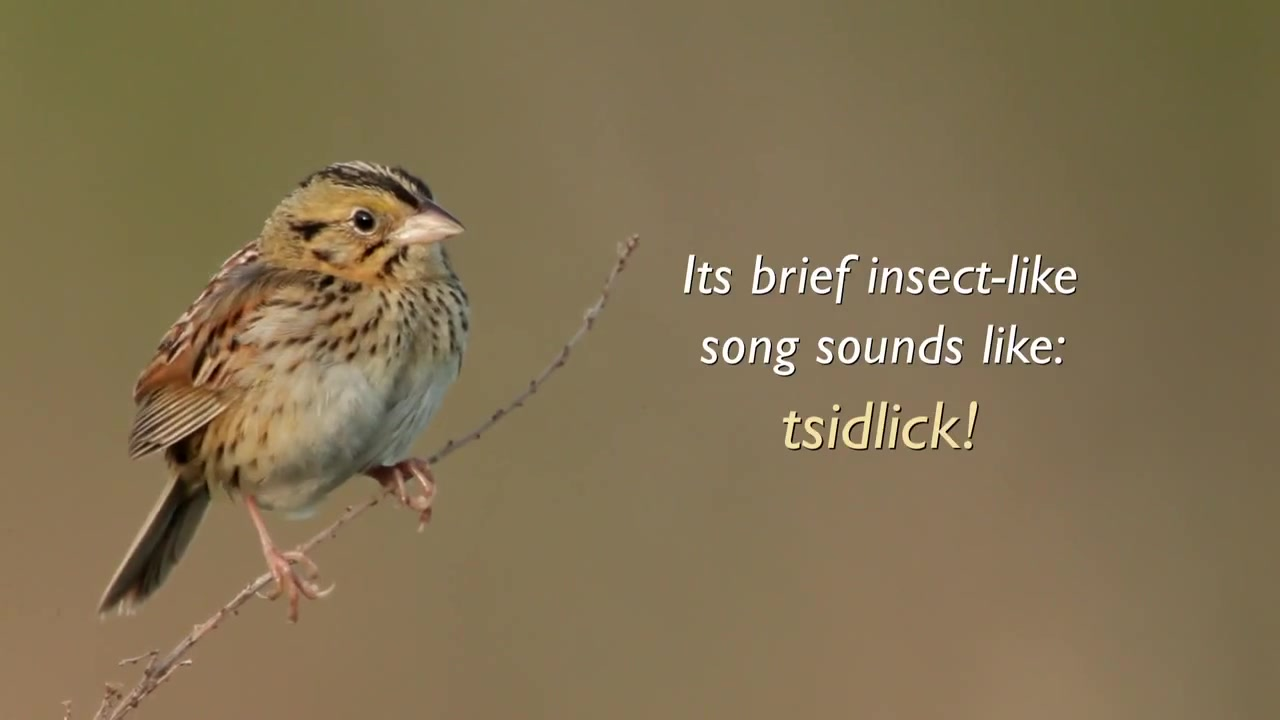bird: (95, 159, 472, 627)
